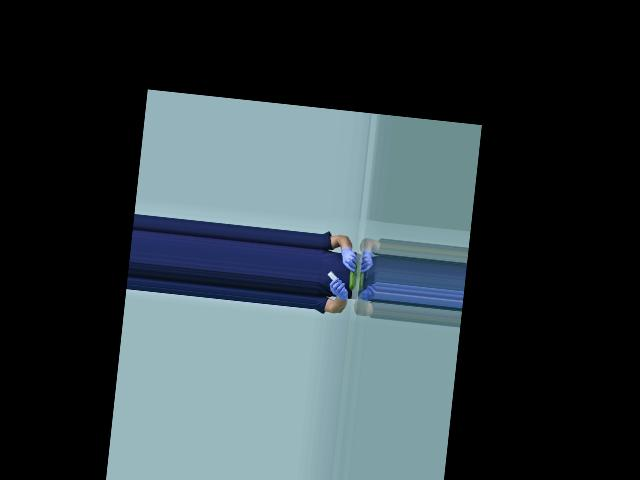cucumber: (348, 263, 358, 291)
